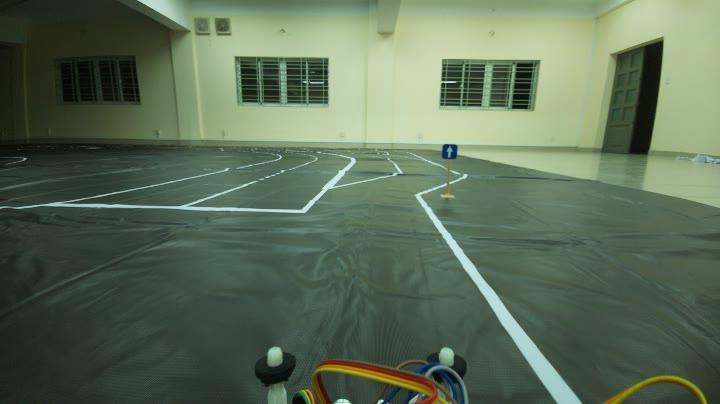onewayroad: (434, 142, 460, 164)
